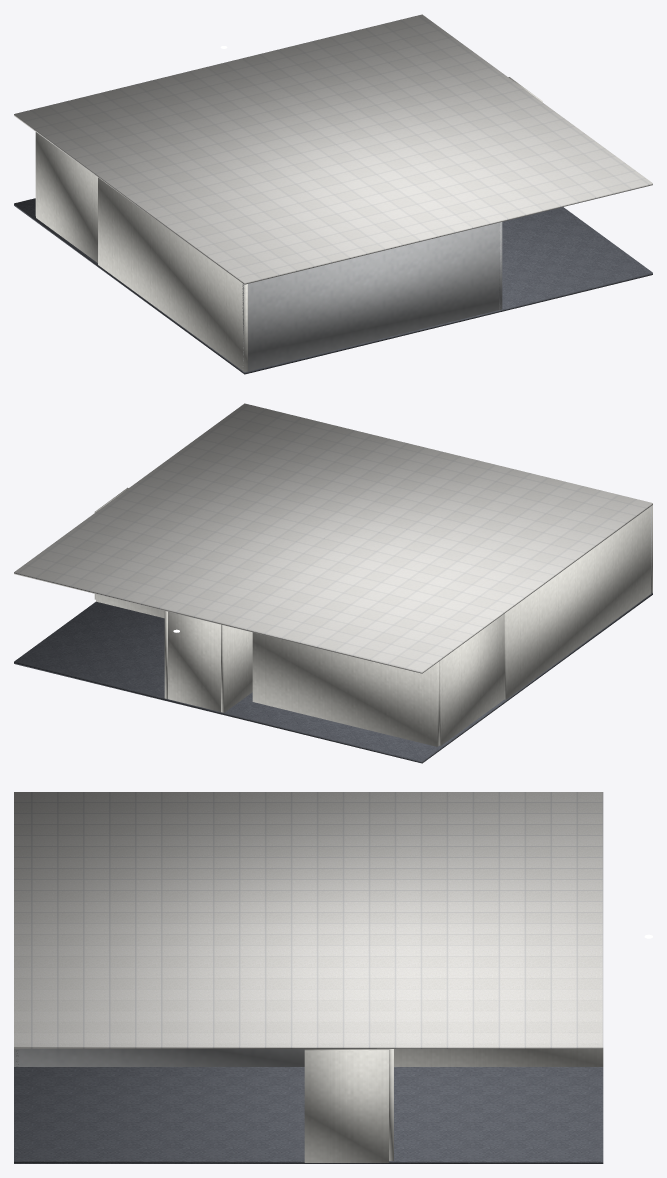
File: bridge.glb
The picture shows the model from 3 angles, top to bottom: view 1: azimuth 30°, elevation 25°; view 2: azimuth 150°, elevation 25°; view 3: azimuth 270°, elevation 25°; orthographic projection. The views are drawn at different scales.
Visible parts, largest first — view 1: Bridge; view 2: Bridge; view 3: Bridge.
Boxes of the visible parts, x1,y1,x2,y2 form: Bridge: [14, 14, 652, 374]; Bridge: [14, 403, 652, 763]; Bridge: [14, 792, 652, 1163].
Size of the model in its own units: 18.7 by 3.98 by 19.68.
Materials: 35 (7 with a texture image).
